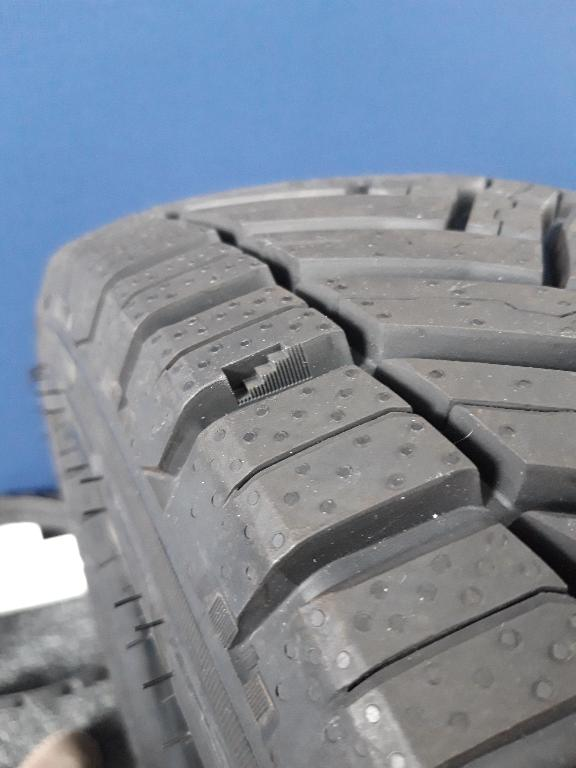temoin:100: (219, 339, 314, 409)
